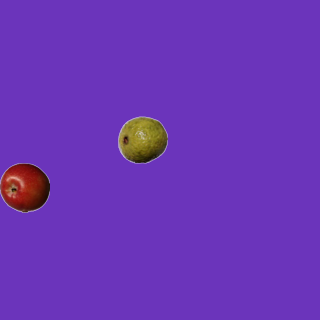Apple Braeburn: (0, 162, 49, 212)
Guava: (117, 114, 167, 164)
